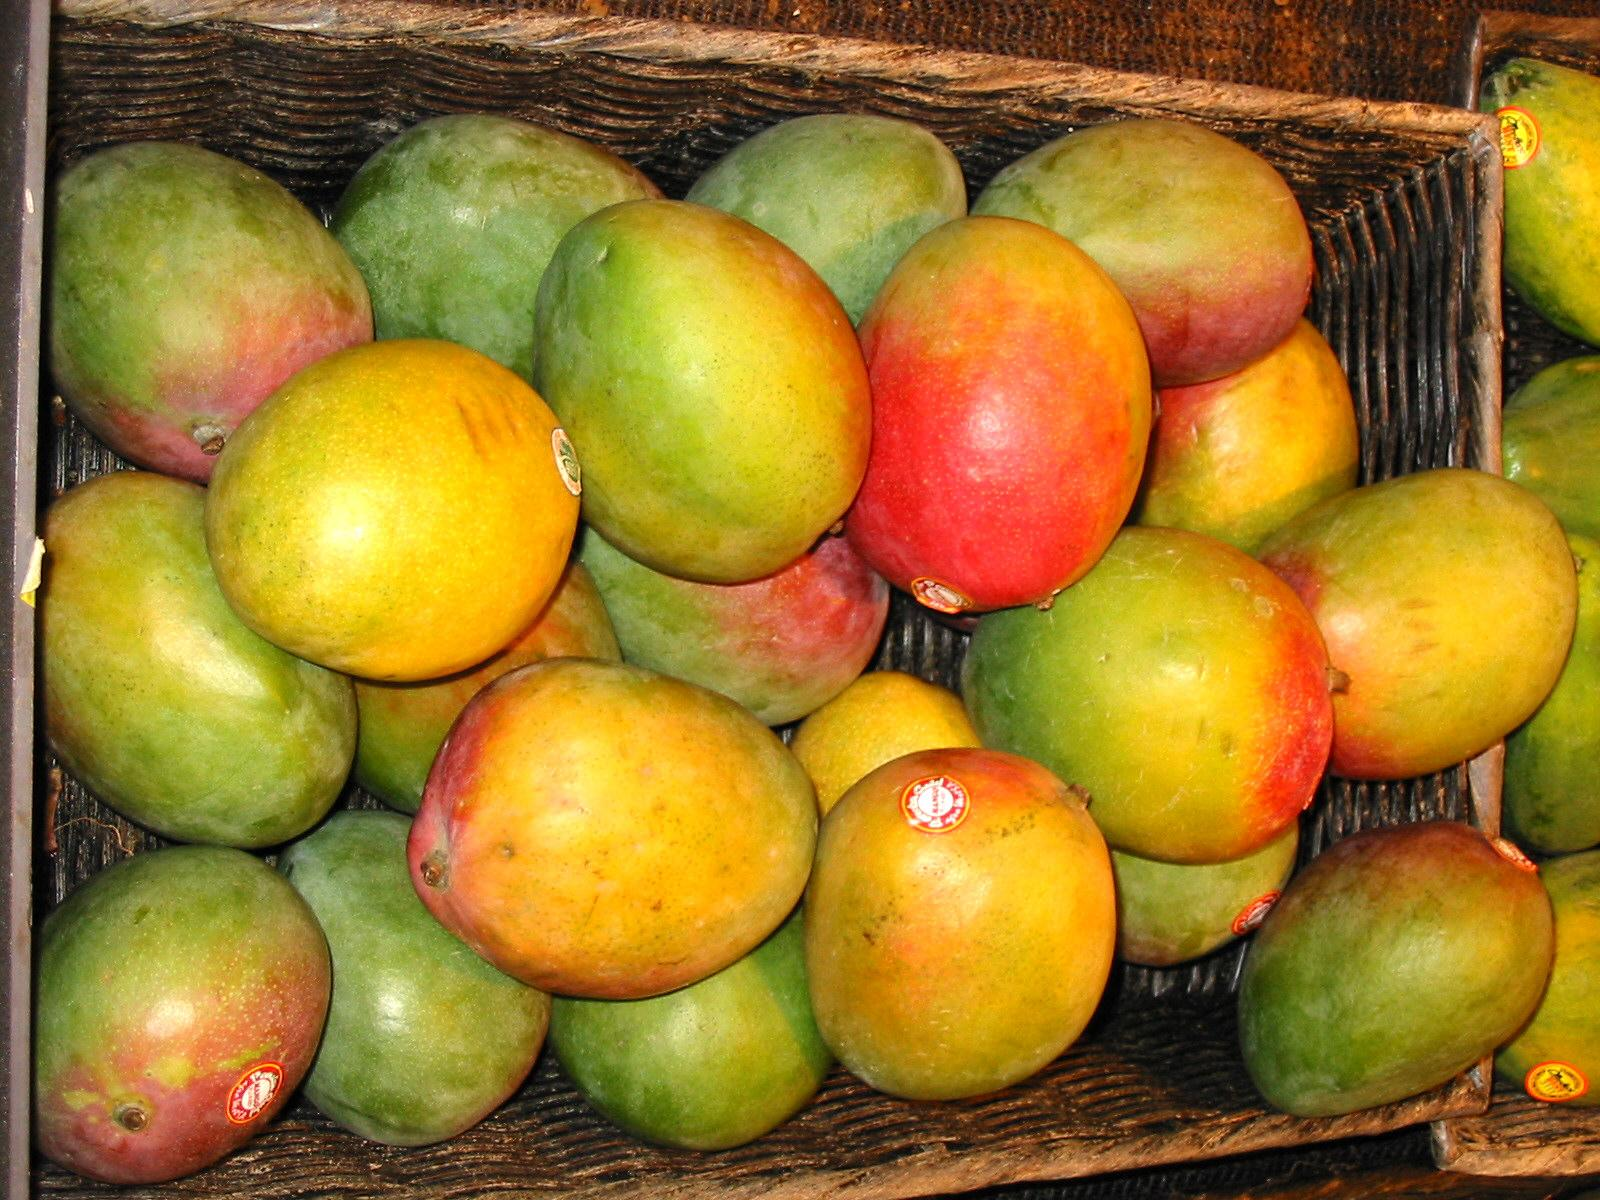mango: (402, 655, 849, 1022), (188, 332, 610, 666), (527, 205, 887, 570), (797, 724, 1143, 1100), (854, 212, 1131, 633)
